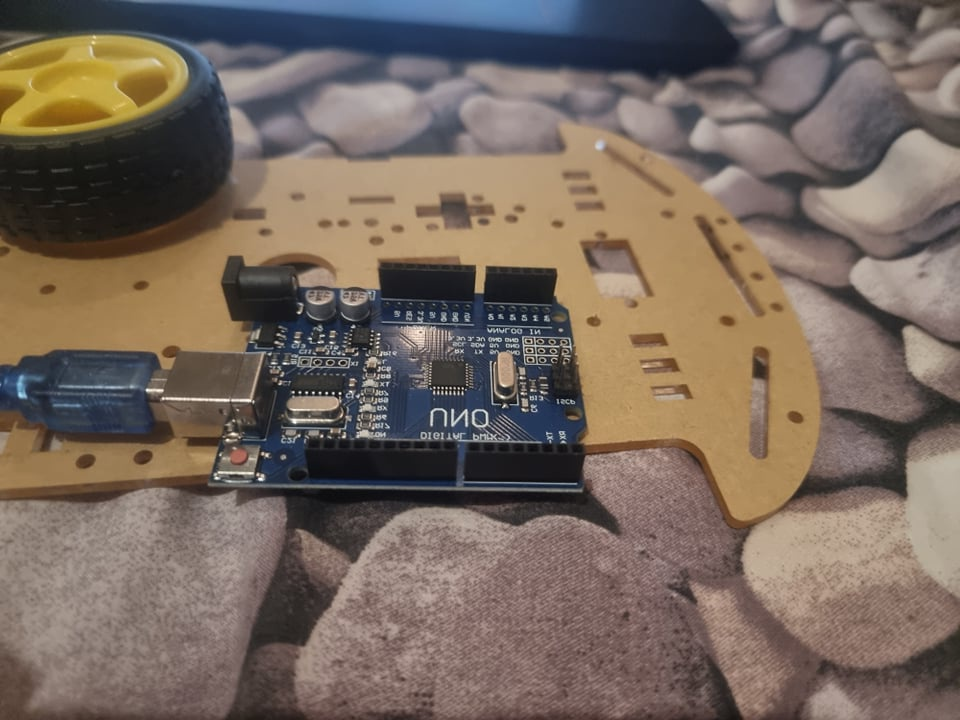UNO R3: (158, 251, 588, 488)
